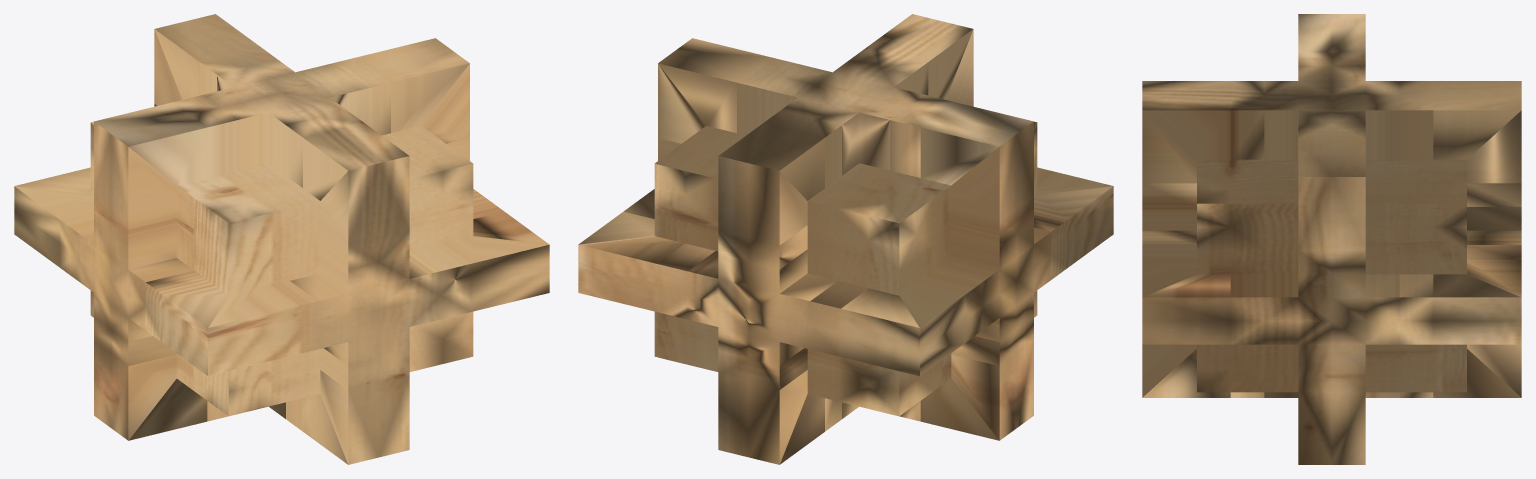
The model's file is escritorio.obj.
3 views of the same model, side by side, from view 1: azimuth 30°, elevation 25°; view 2: azimuth 150°, elevation 25°; view 3: azimuth 270°, elevation 25° (orthographic). The views are drawn at different scales.
Visible parts, largest first — view 1: Default; view 2: Default; view 3: Default.
Part boxes in pixels (x1=…): Default: x1=14, y1=14, x2=549, y2=464; Default: x1=578, y1=14, x2=1113, y2=464; Default: x1=1142, y1=14, x2=1521, y2=464.
Bounding box in the file's own units: 6.63 × 5.46 × 6.52.
1 material, 1 textured.
